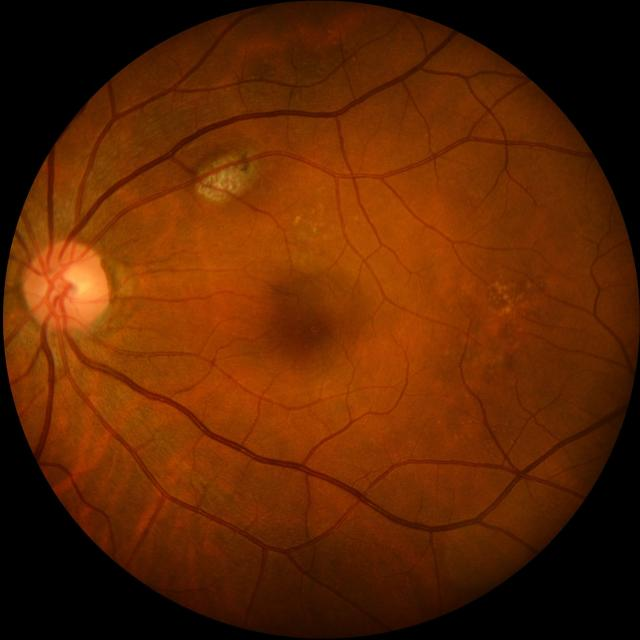OC: (46, 264, 92, 302)
OD: (22, 241, 108, 332)
